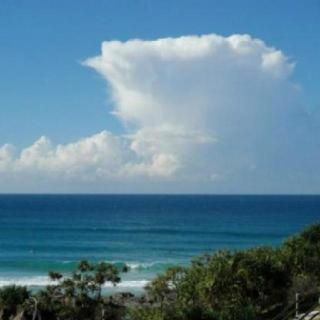Cumulonimbus: (0, 0, 320, 194)
